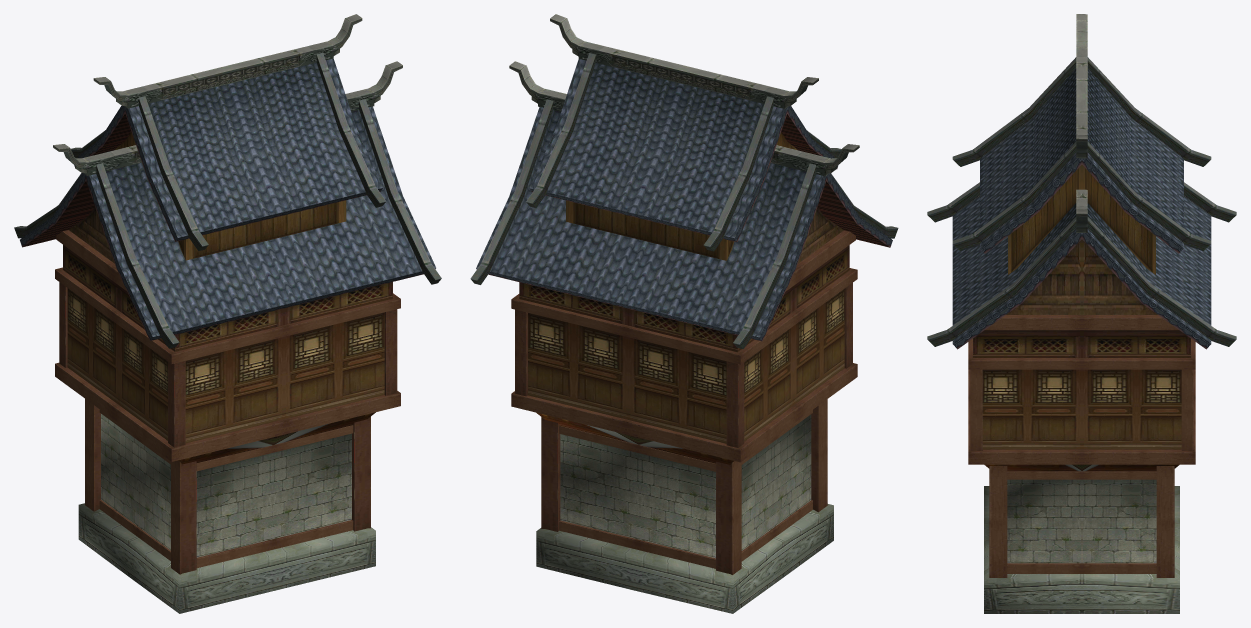
The model's file is Yland3_fzi_02 Yland3.FBX.
3 renders of one model, left to right at view 1: azimuth 30°, elevation 25°; view 2: azimuth 150°, elevation 25°; view 3: azimuth 270°, elevation 25°, orthographic. The views are drawn at different scales.
Parts seen in each view (by area): view 1: Yland3_fzi_02 Yland3; view 2: Yland3_fzi_02 Yland3; view 3: Yland3_fzi_02 Yland3.
Part boxes in pixels (x1,y1,x2,y2): Yland3_fzi_02 Yland3: (14, 14, 441, 613); Yland3_fzi_02 Yland3: (470, 14, 898, 613); Yland3_fzi_02 Yland3: (927, 14, 1236, 613).
Bounding box in the file's own units: 3.07 × 4.3 × 2.45.
